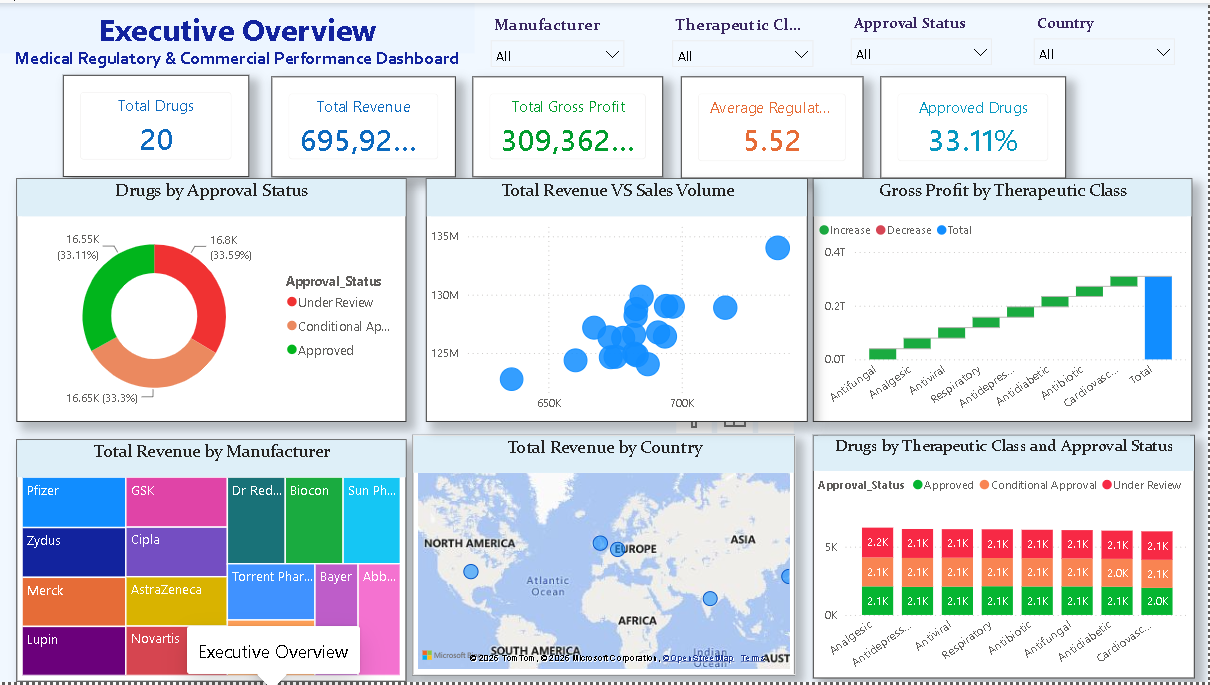

The dashboard page shown, as its layout file describes it:
{"tool":"powerbi","page":{"name":"Executive Overview","canvas":[1280,720],"ordinal":0},"visuals":[{"type":"cardVisual","fields":{"Data":["Drug_Regulatory_Dataset.Approval Rate"]},"box":[934.2,77.4,196.8,108.1],"z":0},{"type":"cardVisual","fields":{"Data":["Drug_Regulatory_Dataset.Average Regulatory Risk"]},"box":[722.8,77.4,193.6,108.1],"z":1000},{"type":"cardVisual","fields":{"Data":["Drug_Regulatory_Dataset.Total Drugs"]},"box":[66.8,76.3,197.2,108.2],"z":2000},{"type":"cardVisual","fields":{"Data":["Drug_Regulatory_Dataset.Total Revenue"]},"box":[287.9,77.9,195.6,106.6],"z":3000},{"type":"cardVisual","fields":{"Data":["Drug_Regulatory_Dataset.Total Gross Profit"]},"box":[501,77.9,202,106.6],"z":4000},{"type":"columnChart","title":" Drugs by Therapeutic Class and Approval Status","fields":{"Category":["Drug_Regulatory_Dataset.Therapeutic_Class"],"Series":["Drug_Regulatory_Dataset.Approval_Status"],"Y":["CountNonNull(Drug_Regulatory_Dataset.Drug_Name)"]},"box":[862.1,458.1,405,258.2],"z":5000},{"type":"donutChart","title":"Drugs by Approval Status","fields":{"Category":["Drug_Regulatory_Dataset.Approval_Status"],"Y":["CountNonNull(Drug_Regulatory_Dataset.Drug_Name)"]},"box":[17.5,186.1,413,258.2],"z":6000},{"type":"slicer","fields":{"Values":["Drug_Regulatory_Dataset.Manufacturer_Brand"]},"box":[509.9,6.5,161.3,71],"z":7000},{"type":"slicer","fields":{"Values":["Drug_Regulatory_Dataset.Therapeutic_Class"]},"box":[703.5,6.5,169.4,71],"z":8000},{"type":"slicer","fields":{"Values":["Drug_Regulatory_Dataset.Approval_Status"]},"box":[892.2,6.5,169.4,71],"z":9000},{"type":"treemap","title":"Total Revenue by Manufacturer","fields":{"Group":["Drug_Regulatory_Dataset.Manufacturer_Brand"],"Values":["Drug_Regulatory_Dataset.Total Revenue"]},"box":[17.7,463.1,413,256.5],"z":10000},{"type":"waterfallChart","title":" Gross Profit by Therapeutic Class","fields":{"Category":["Drug_Regulatory_Dataset.Therapeutic_Class"],"Y":["Drug_Regulatory_Dataset.Total Gross Profit"]},"box":[862.1,186.1,401.8,258.2],"z":11000},{"type":"map","title":"Total Revenue by Country","fields":{"Category":["Drug_Regulatory_Dataset.Country_of_Origin"],"Size":["Drug_Regulatory_Dataset.Total Revenue"]},"box":[437.4,458.1,405.6,254.5],"z":12000},{"type":"slicer","fields":{"Values":["Drug_Regulatory_Dataset.Country_of_Origin"]},"box":[1085.9,6.5,169.4,71],"z":13000},{"type":"textbox","box":[0,0,503.4,53.2],"z":14000},{"type":"textbox","box":[0,41.9,503.4,45.2],"z":15000},{"type":"scatterChart","title":"Total Revenue VS Sales Volume","fields":{"X":["Sum(Drug_Regulatory_Dataset.Price_Per_Unit)"],"Y":["Sum(Drug_Regulatory_Dataset.Annual_Sales_Volume)"],"Category":["Drug_Regulatory_Dataset.Drug_Name"],"Size":["CountNonNull(Drug_Regulatory_Dataset.Therapeutic_Class)"]},"box":[451.7,186.1,405,258.2],"z":16000}]}

Visuals, with their boxes in screenshot pixels (x1, y1, x2, y2), scaled from the page's 1280x720 canvas onto the 1210x685 screenshot:
cardVisual - Drug_Regulatory_Dataset.Approval Rate: {"x1": 883, "y1": 74, "x2": 1069, "y2": 176}
cardVisual - Drug_Regulatory_Dataset.Average Regulatory Risk: {"x1": 683, "y1": 74, "x2": 866, "y2": 176}
cardVisual - Drug_Regulatory_Dataset.Total Drugs: {"x1": 63, "y1": 73, "x2": 250, "y2": 176}
cardVisual - Drug_Regulatory_Dataset.Total Revenue: {"x1": 272, "y1": 74, "x2": 457, "y2": 176}
cardVisual - Drug_Regulatory_Dataset.Total Gross Profit: {"x1": 474, "y1": 74, "x2": 665, "y2": 176}
" Drugs by Therapeutic Class and Approval Status" columnChart: {"x1": 815, "y1": 436, "x2": 1198, "y2": 681}
"Drugs by Approval Status" donutChart: {"x1": 17, "y1": 177, "x2": 407, "y2": 423}
slicer - Drug_Regulatory_Dataset.Manufacturer_Brand: {"x1": 482, "y1": 6, "x2": 634, "y2": 74}
slicer - Drug_Regulatory_Dataset.Therapeutic_Class: {"x1": 665, "y1": 6, "x2": 825, "y2": 74}
slicer - Drug_Regulatory_Dataset.Approval_Status: {"x1": 843, "y1": 6, "x2": 1004, "y2": 74}
"Total Revenue by Manufacturer" treemap: {"x1": 17, "y1": 441, "x2": 407, "y2": 684}
" Gross Profit by Therapeutic Class" waterfallChart: {"x1": 815, "y1": 177, "x2": 1195, "y2": 423}
"Total Revenue by Country" map: {"x1": 413, "y1": 436, "x2": 797, "y2": 678}
slicer - Drug_Regulatory_Dataset.Country_of_Origin: {"x1": 1027, "y1": 6, "x2": 1187, "y2": 74}
textbox: {"x1": 0, "y1": 0, "x2": 476, "y2": 51}
textbox: {"x1": 0, "y1": 40, "x2": 476, "y2": 83}
"Total Revenue VS Sales Volume" scatterChart: {"x1": 427, "y1": 177, "x2": 810, "y2": 423}
